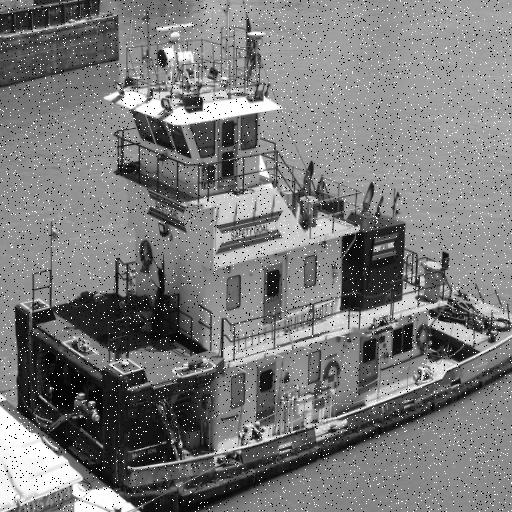tugboat: (5, 10, 512, 512)
